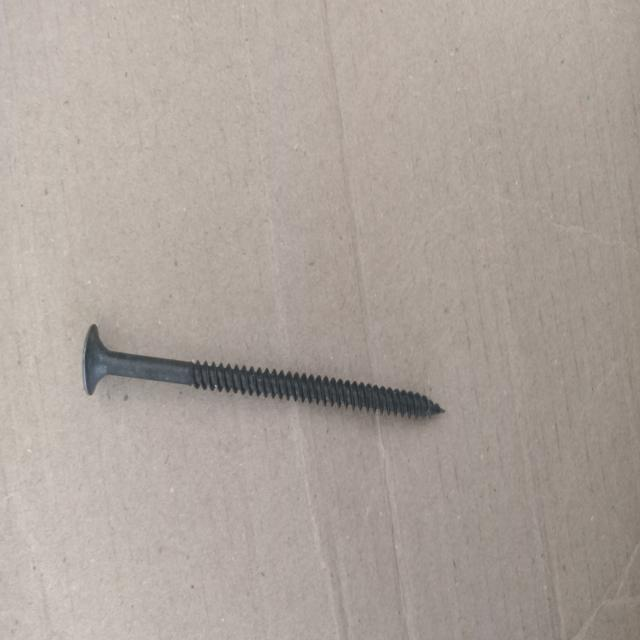screw: (82, 324, 446, 431)
